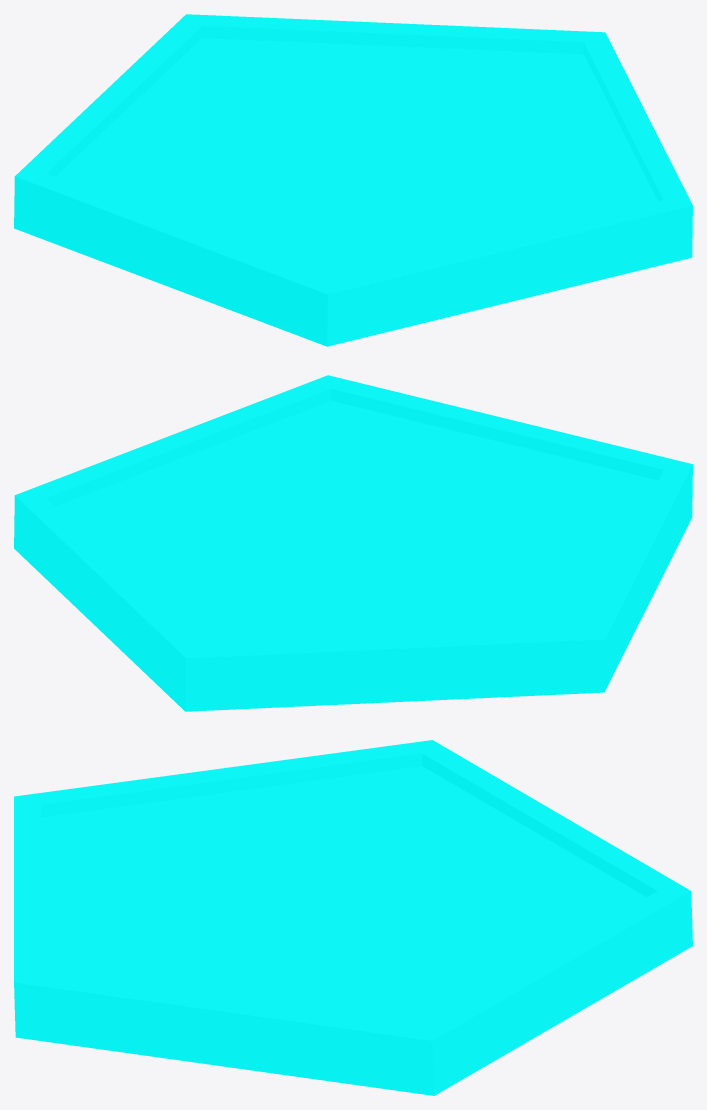
The model's file is SFI0210029.fbx.
3 renders of one model, top to bottom at view 1: azimuth 30°, elevation 25°; view 2: azimuth 150°, elevation 25°; view 3: azimuth 270°, elevation 25°, orthographic. The views are drawn at different scales.
Visible parts, largest first — view 1: smSFI0210029; view 2: smSFI0210029; view 3: smSFI0210029.
Boxes of the visible parts, box(x1,y1,x2,y2) form: smSFI0210029: box(14, 14, 692, 346); smSFI0210029: box(14, 375, 692, 711); smSFI0210029: box(14, 740, 692, 1095).
Size of the model in its own units: 137 by 11.98 by 130.
